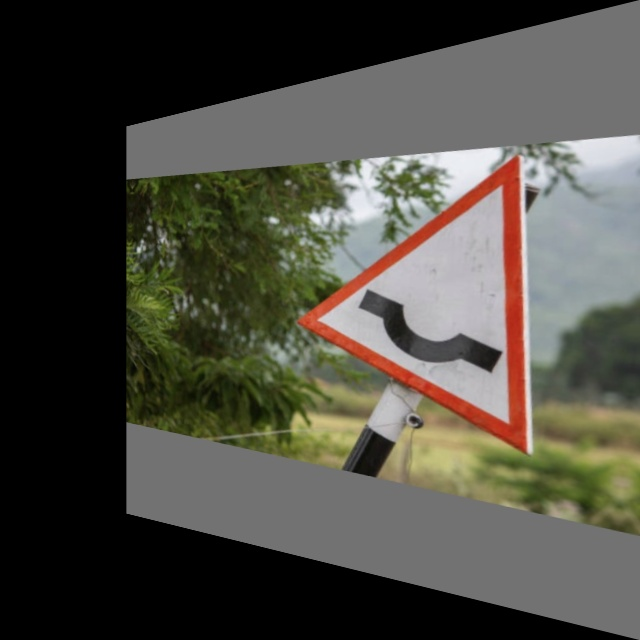Dangerous_Dip: (289, 134, 567, 442)
